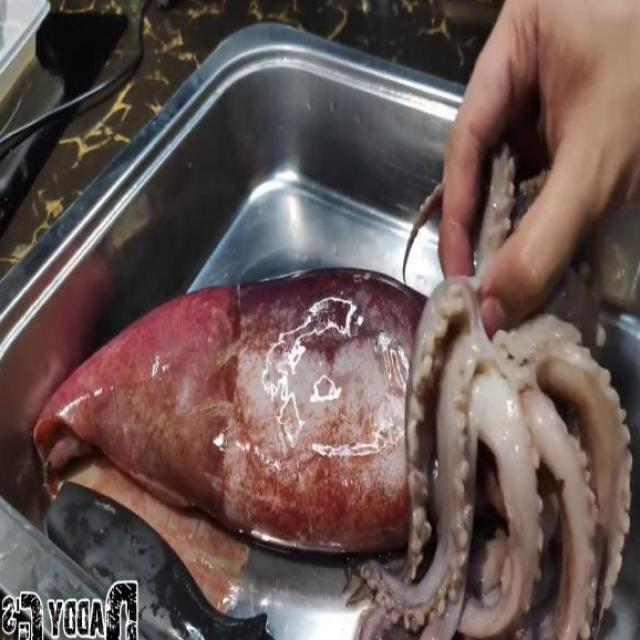SQUID: (7, 230, 640, 639)
